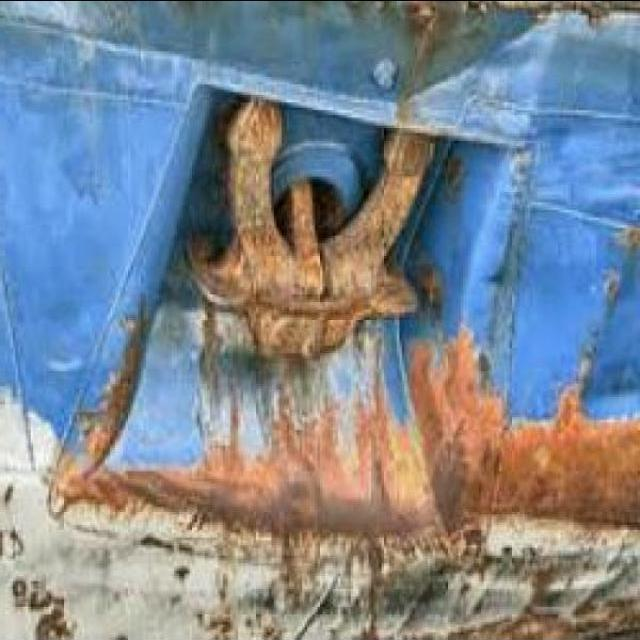corrosion: (229, 84, 463, 357), (419, 340, 640, 529), (270, 368, 439, 538), (98, 429, 319, 535), (170, 331, 272, 540)
